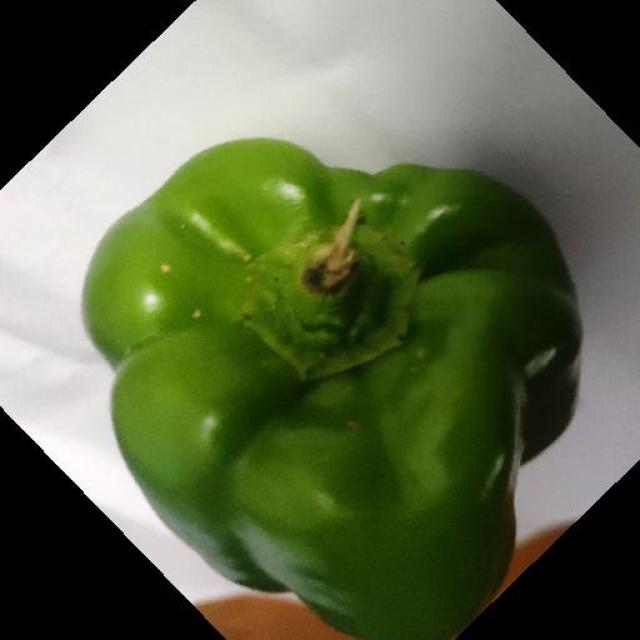Fresh_Capsicum: (101, 104, 578, 578)
